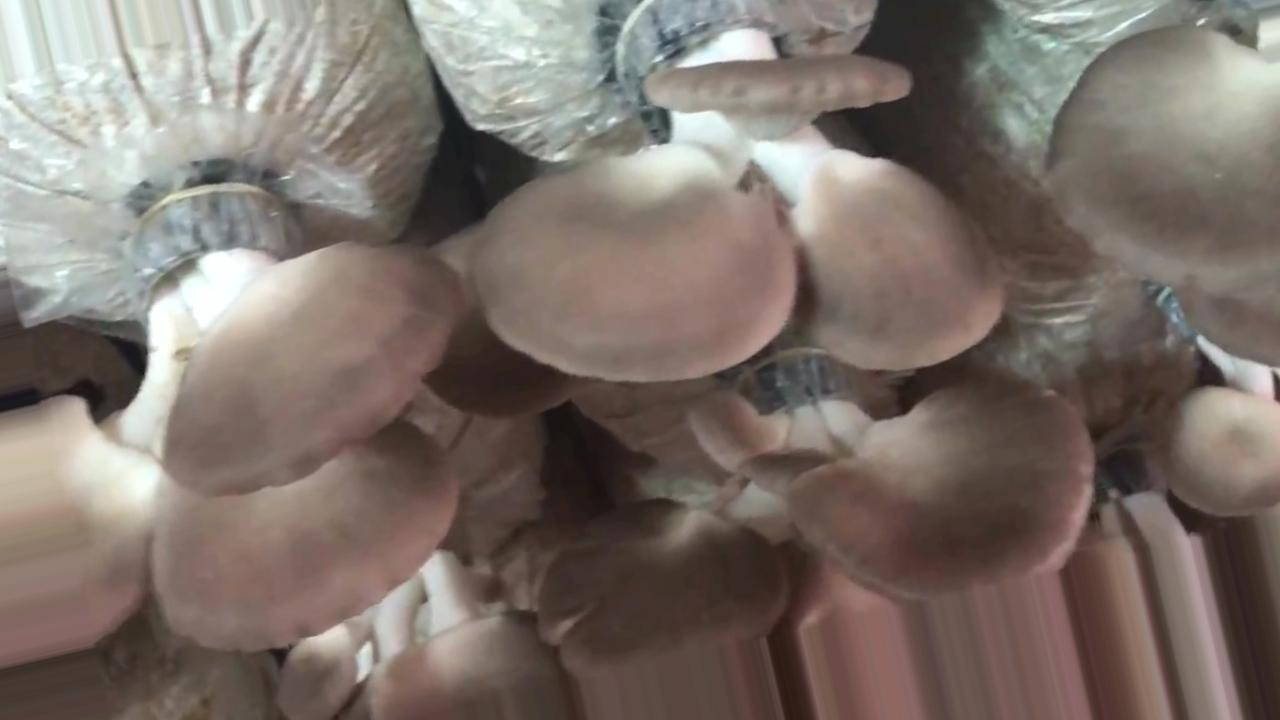nam: (1, 162, 461, 651), (474, 1, 1002, 378), (538, 348, 1093, 681), (1048, 28, 1280, 363), (278, 527, 556, 720), (1146, 281, 1280, 512)
